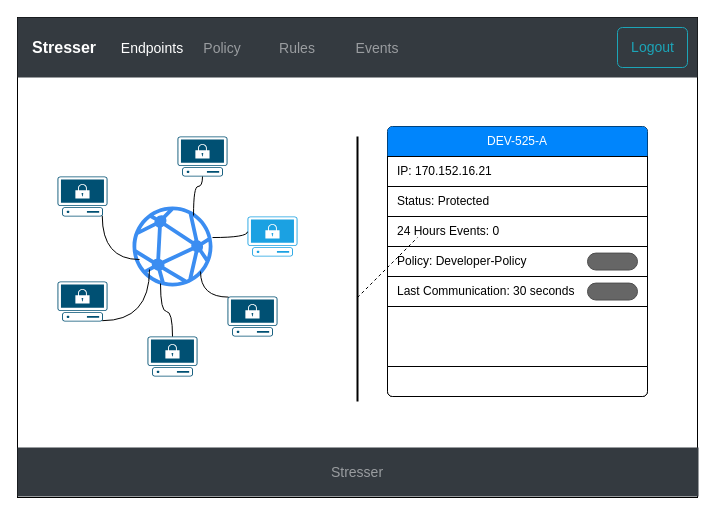
This 716x515 diagram has some shape labels left out. Here are the shapes that lost their labels. From the top down, the centre of each, then its label:
(612,261): change
(612,291): Refresh
